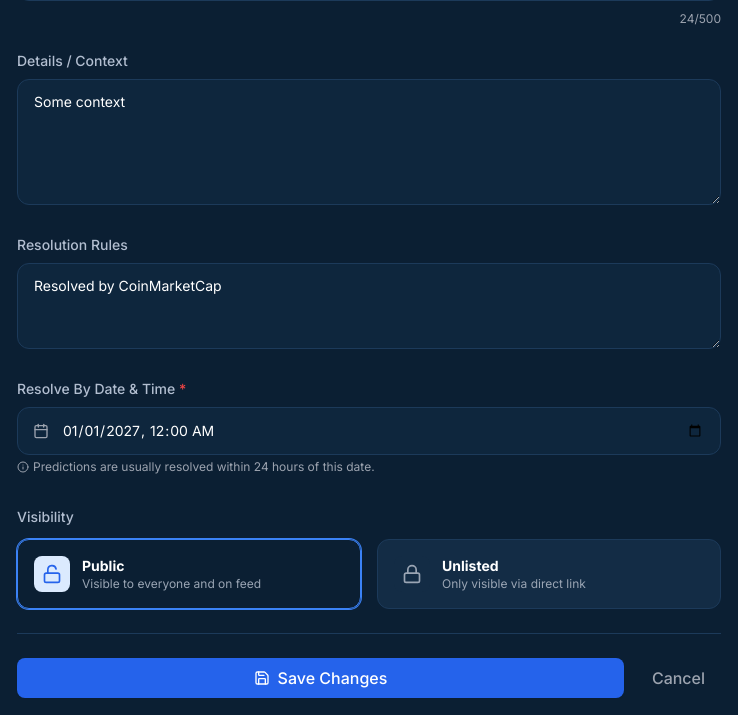
Test case: EditForecastClient › shows "No changes to save" when nothing changed
(page scrolled)
Step 1. Click the button "Save Changes" → (320, 678), box [17, 658, 624, 698]
(page scrolled)
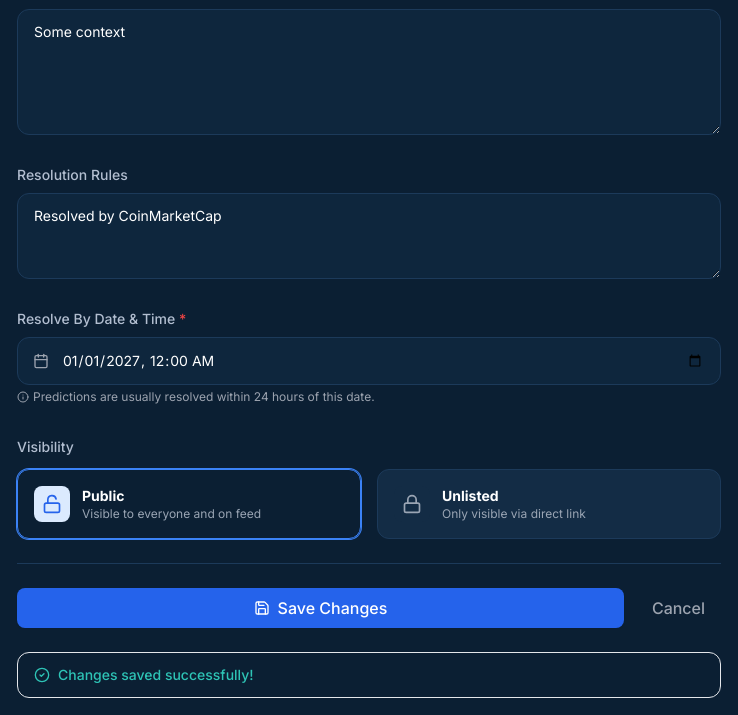
Check: the text "Changes saved successfully!" is shown, box [58, 665, 254, 685]
